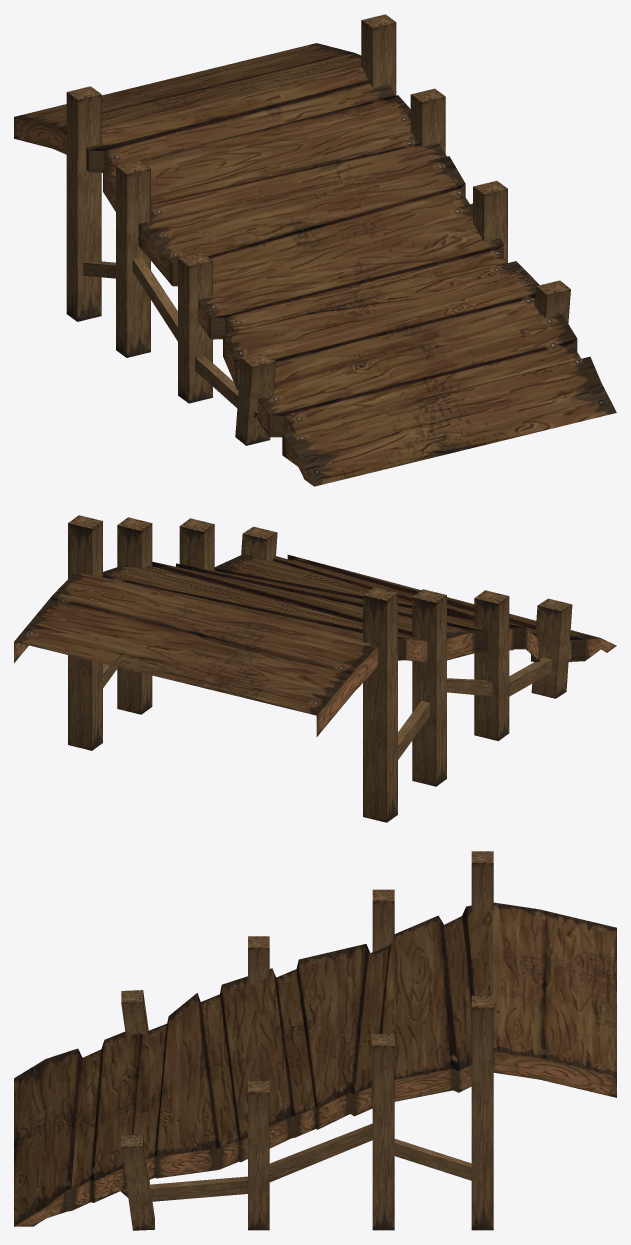
Rendered from fanasty_mod_bridge.fbx.
3 views of the same model, one above another, from view 1: azimuth 30°, elevation 25°; view 2: azimuth 150°, elevation 25°; view 3: azimuth 270°, elevation 25° (orthographic).
Parts seen in each view (by area): view 1: bridge; view 2: bridge; view 3: bridge.
Part boxes in pixels (<box>): bridge: <box>14,14,616,486</box>; bridge: <box>14,515,616,822</box>; bridge: <box>14,851,616,1230</box>.
Bounding box in the file's own units: 4.38 × 2.91 × 7.13.
